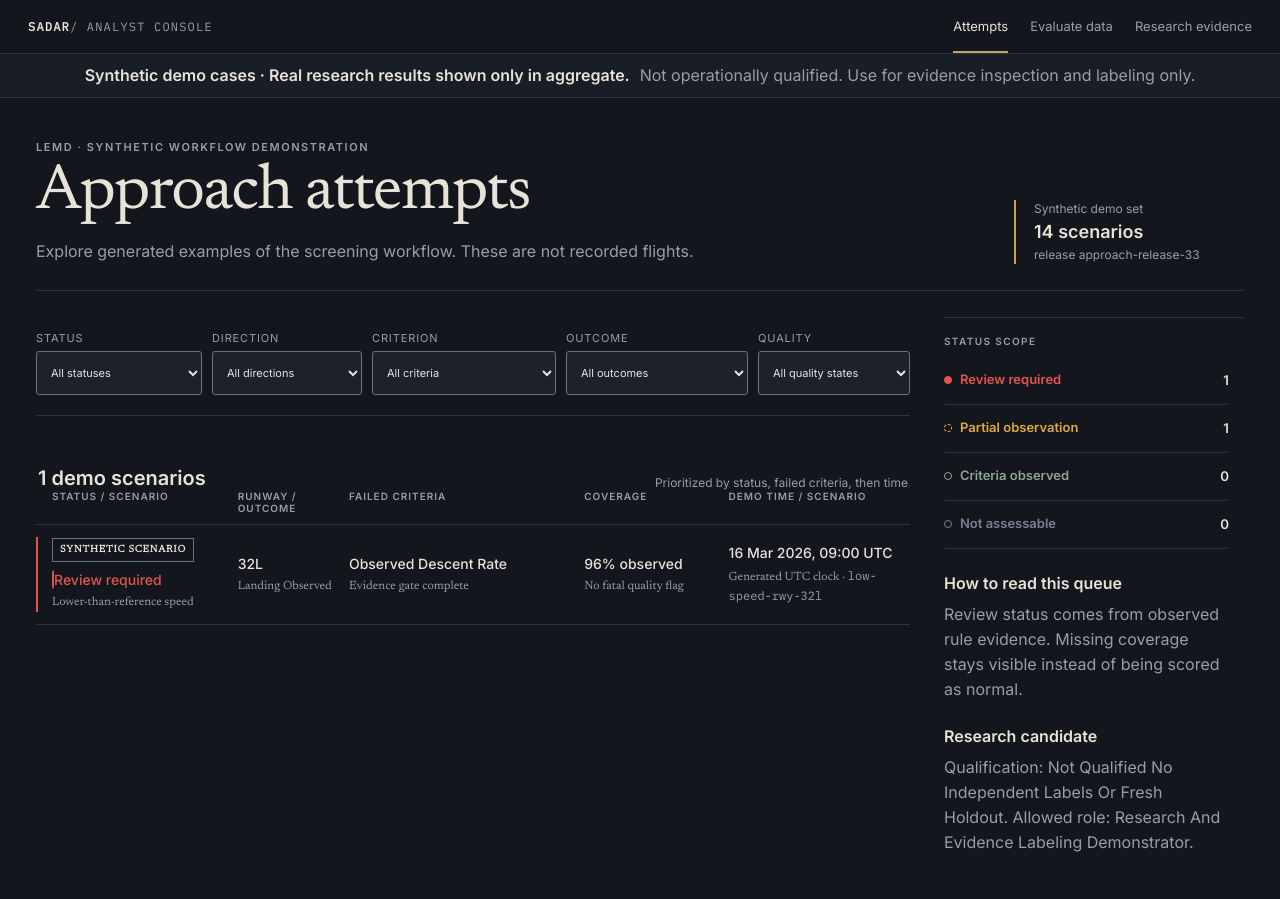
Test: attempt-first navigation › keeps upload navigation visible as a first-class workflow
Click the link "Evaluate data". click: x=1072, y=26
box: 1030,18 -> 1113,34
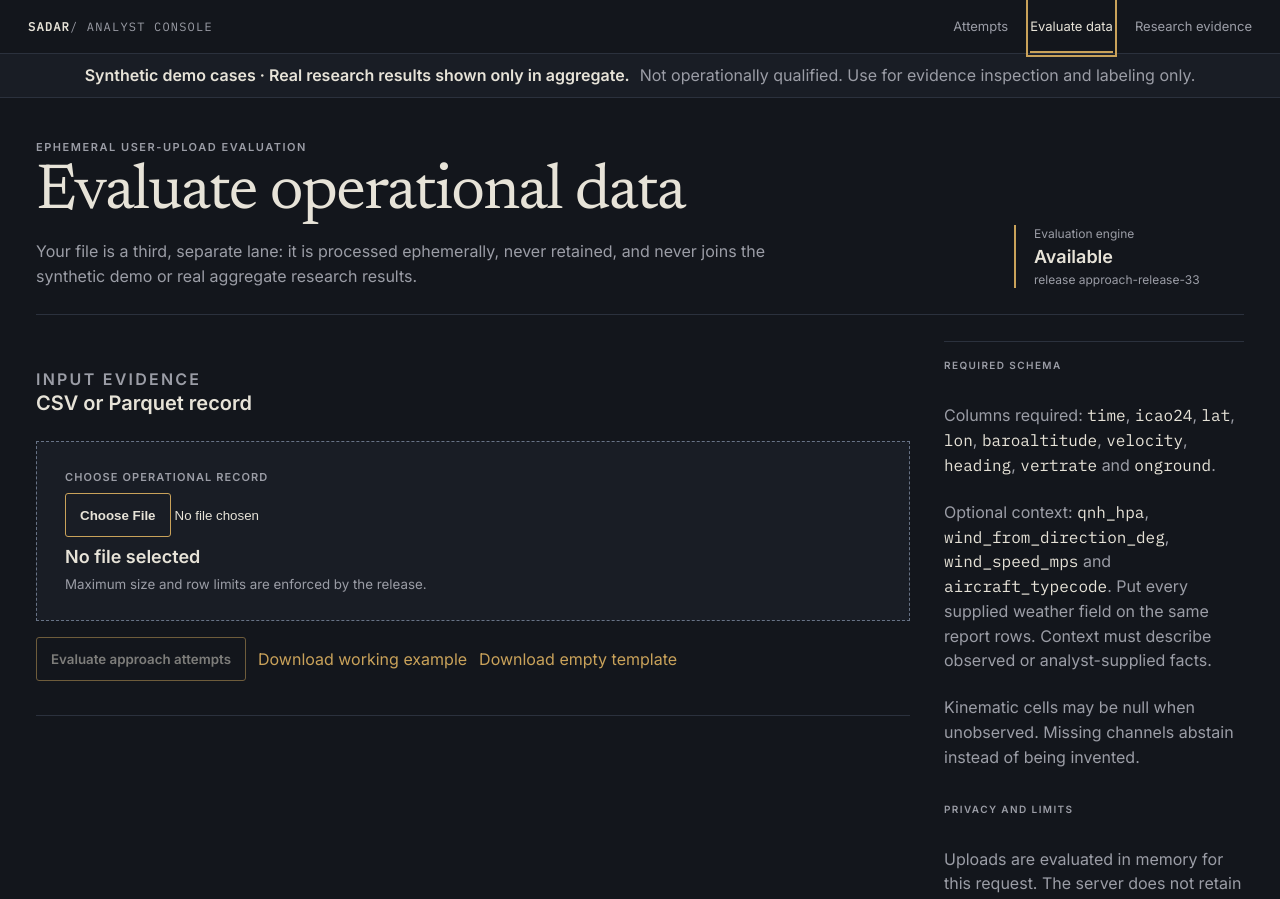
Now the heading "Evaluate operational data" is shown, box 36,161 -> 685,225
